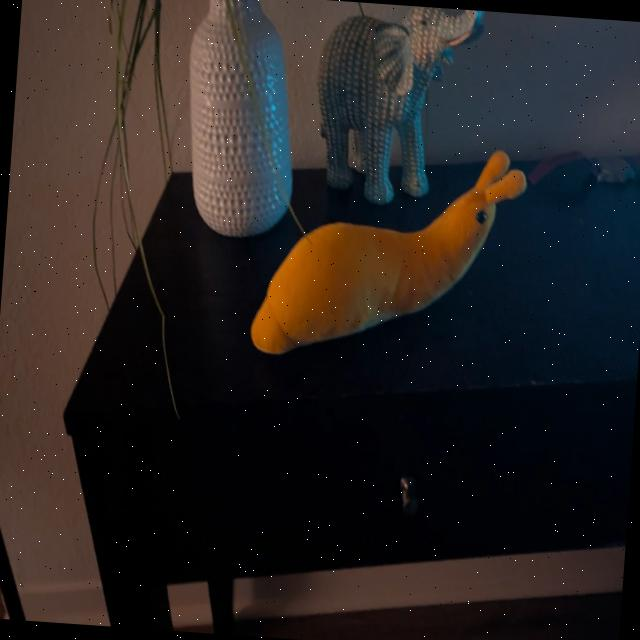banana-slug-toy: (238, 124, 538, 377)
